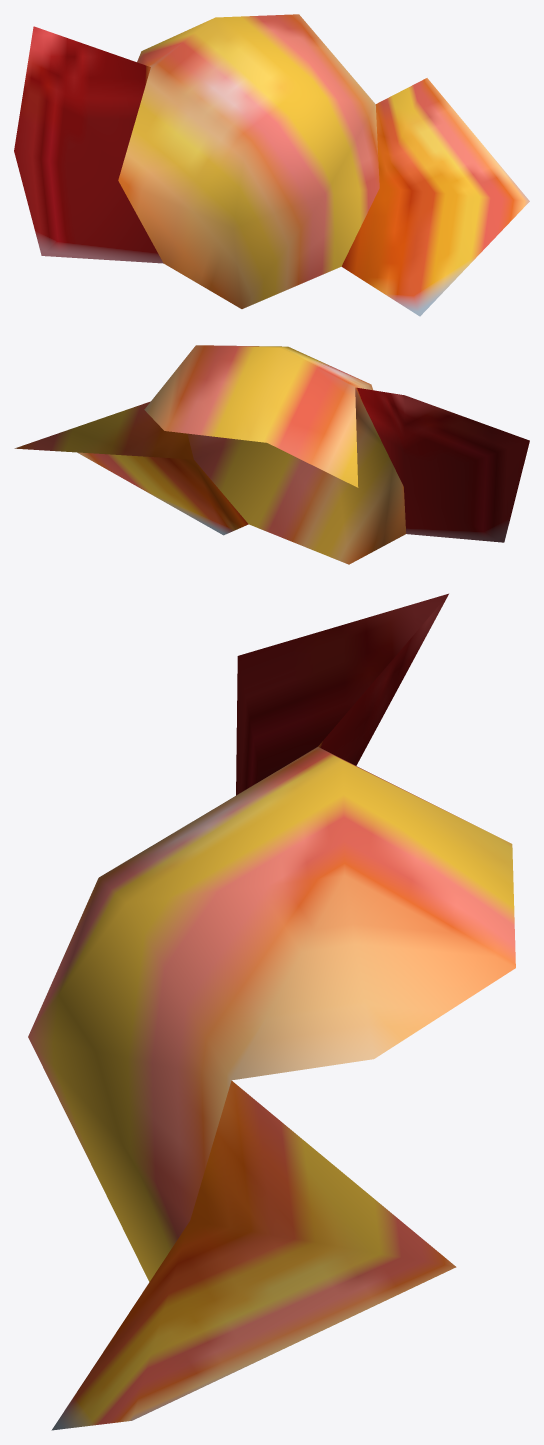
The model's file is fg_candy_out.dae.
3 views of the same model, one above another, from view 1: azimuth 30°, elevation 25°; view 2: azimuth 150°, elevation 25°; view 3: azimuth 270°, elevation 25° (orthographic). The views are drawn at different scales.
Visible parts, largest first — view 1: fg_candy_out; view 2: fg_candy_out; view 3: fg_candy_out.
Part boxes in pixels (x1,y1,x2,y2): fg_candy_out: (14, 14, 529, 316); fg_candy_out: (14, 345, 529, 564); fg_candy_out: (28, 593, 515, 1430).
Size of the model in its own units: 17.91 by 10.01 by 7.86.
Materials: 1 (1 with a texture image).
